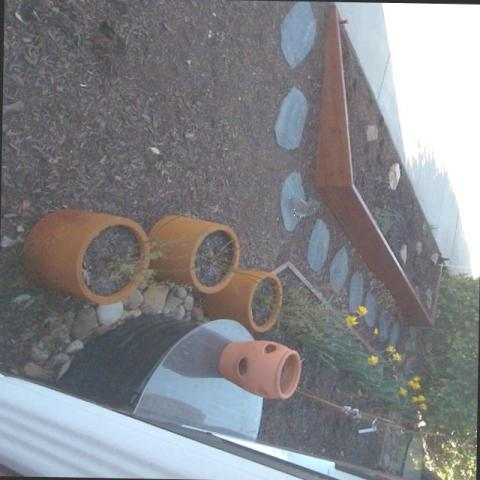small_animal: (288, 195, 323, 219)
